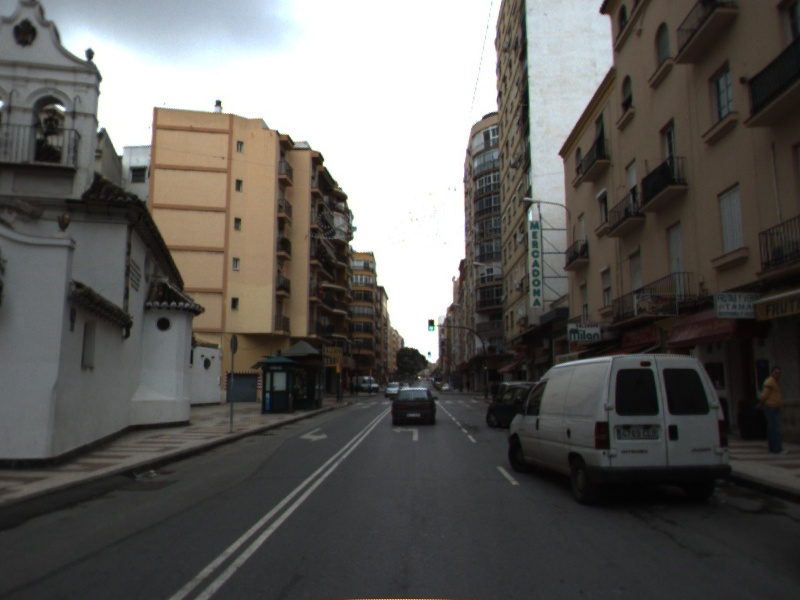LEFT: (391, 425, 420, 442)
